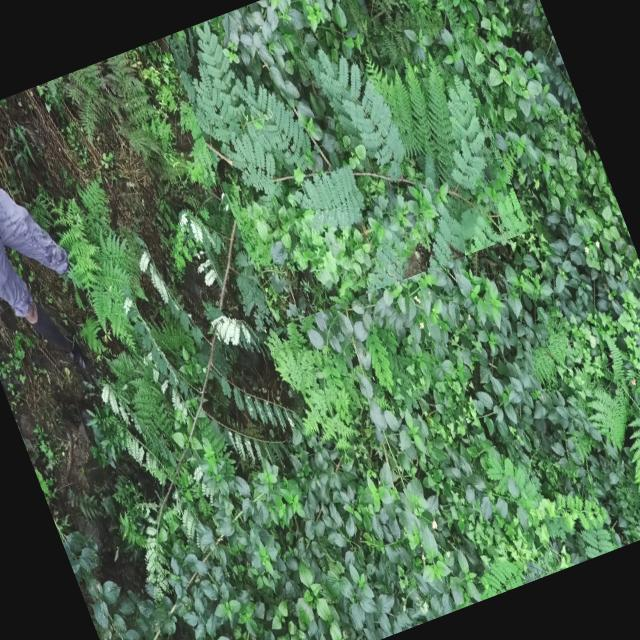Mysore-Thorn-Weed: (29, 177, 368, 600), (165, 0, 530, 327)
